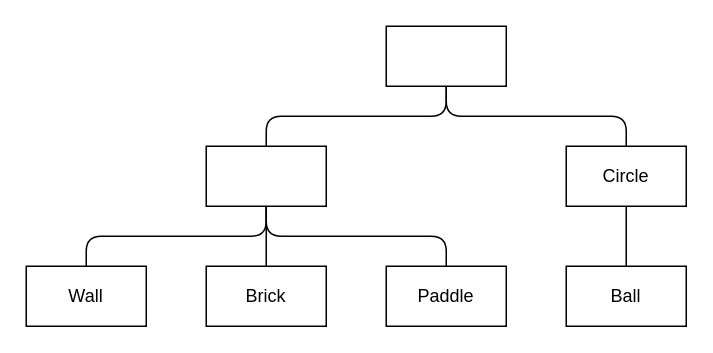
Image size: 713x353. Some labels were removed from this diagram. The centre of each missing label's shape, as x and y in pixels:
"Rectangle" belongs at (x=265, y=175).
"Shape" belongs at (x=445, y=55).
